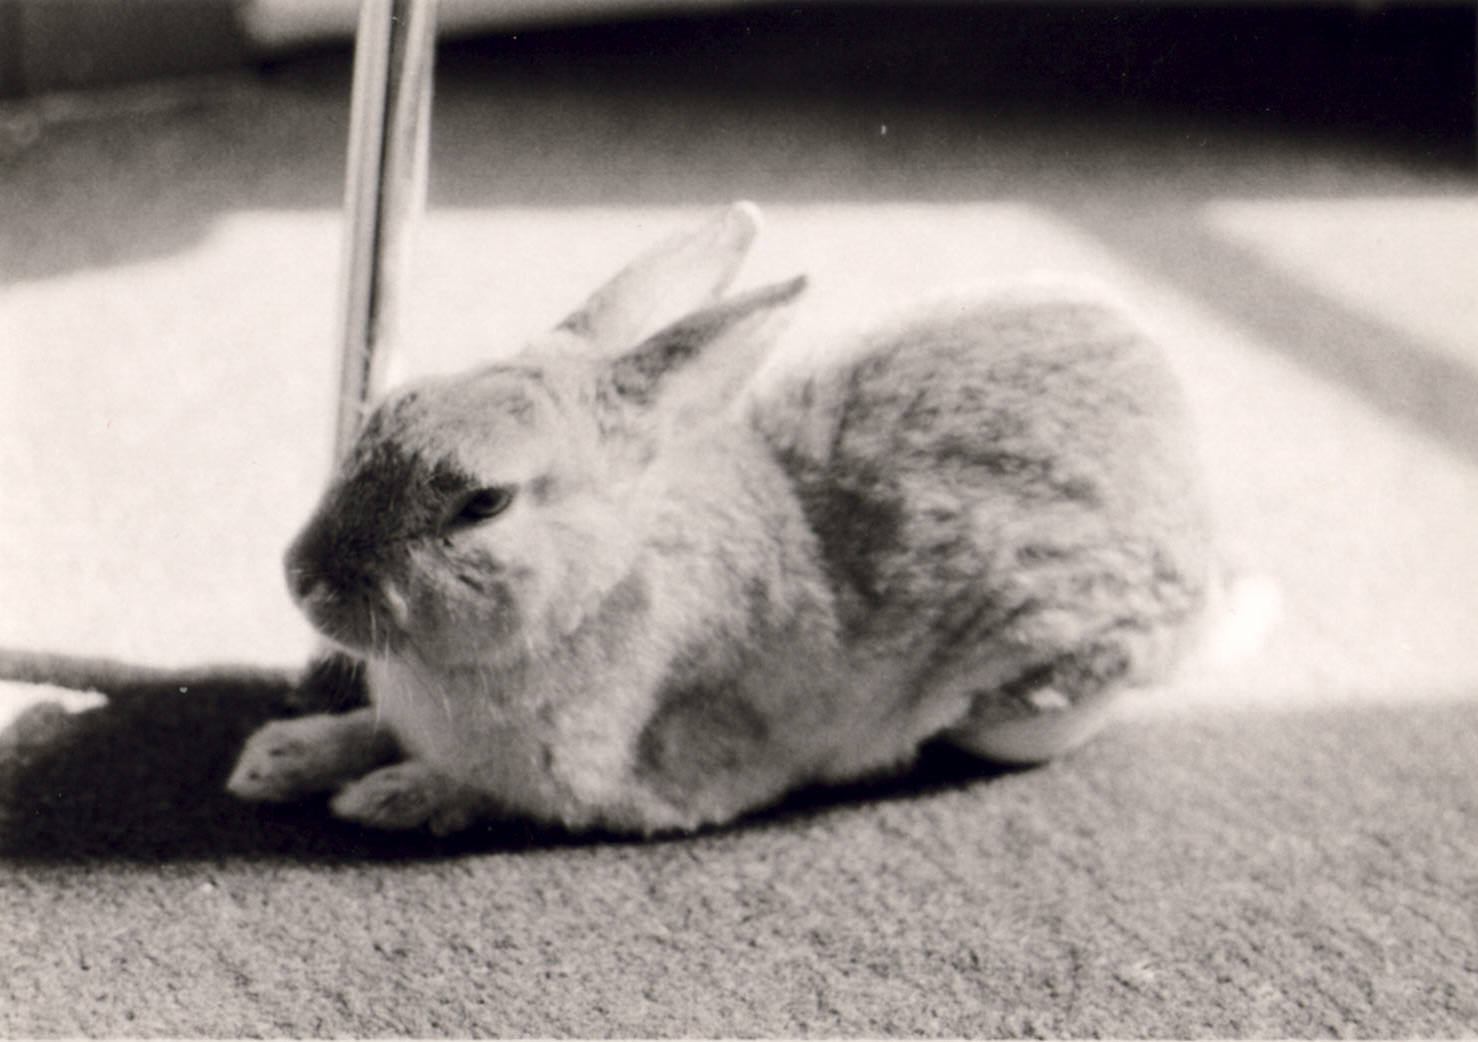bunny: (198, 173, 1260, 855)
